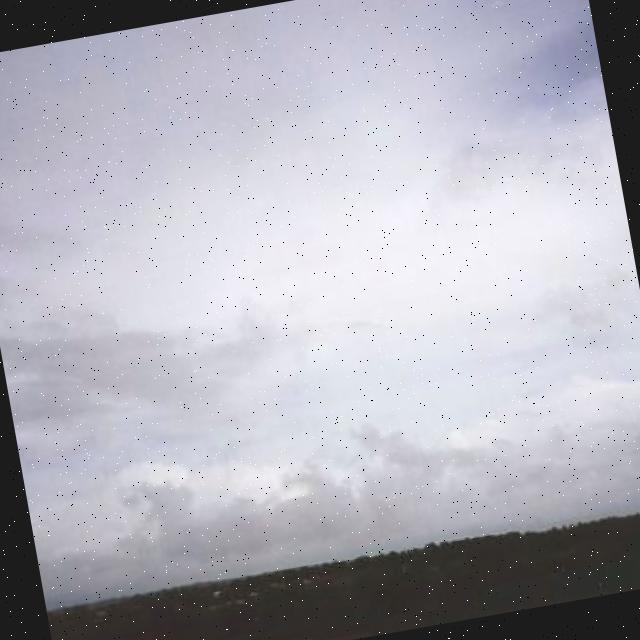St: (1, 1, 640, 534)
